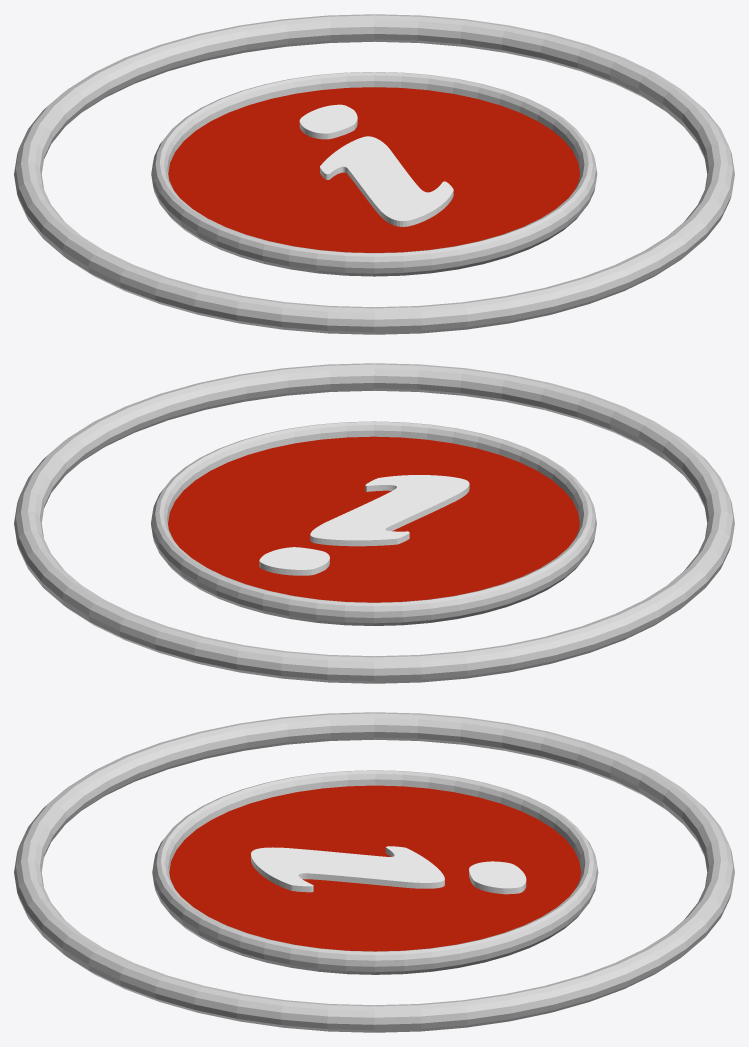
The model's file is info.gltf.
3 views of the same model, one above another, from view 1: azimuth 30°, elevation 25°; view 2: azimuth 150°, elevation 25°; view 3: azimuth 270°, elevation 25° (orthographic).
Parts seen in each view (by area): view 1: Curve; view 2: Curve; view 3: Curve.
Part boxes in pixels (bbox=[...]): Curve: bbox=[14, 14, 734, 334]; Curve: bbox=[14, 363, 734, 683]; Curve: bbox=[14, 712, 734, 1032].
Size of the model in its own units: 2.44 by 0.0939 by 2.44.
